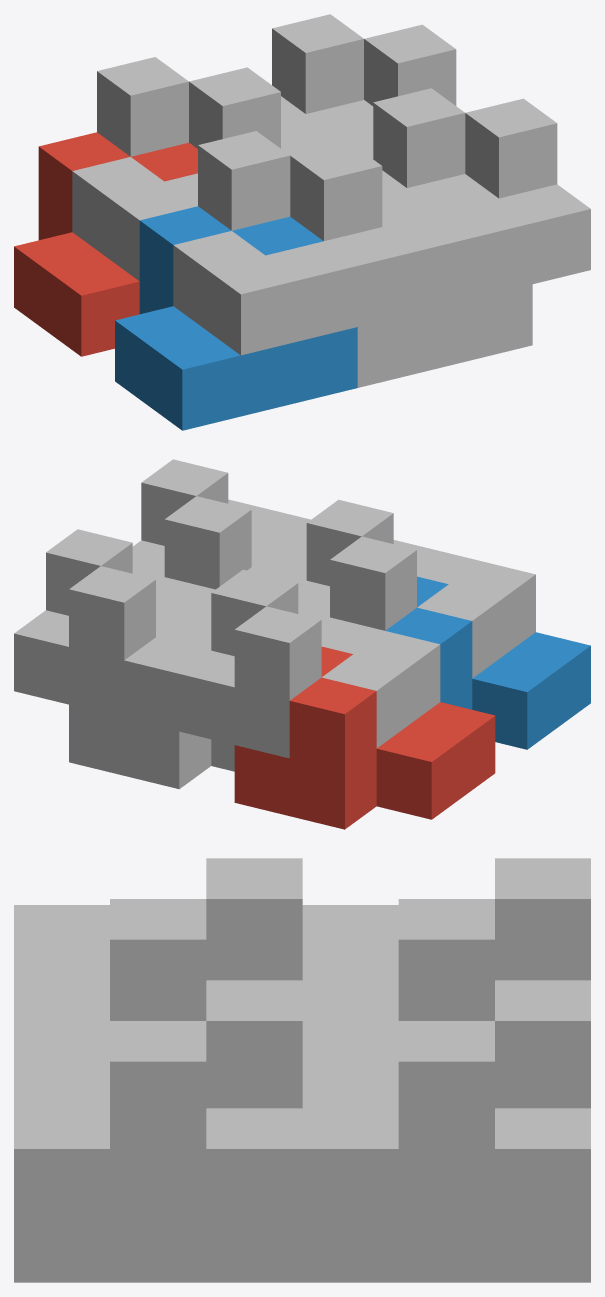
Rendered from tiling.obj.
3 renders of one model, top to bottom at view 1: azimuth 30°, elevation 25°; view 2: azimuth 150°, elevation 25°; view 3: azimuth 270°, elevation 25°, orthographic. The views are drawn at different scales.
Parts seen in each view (by area): view 1: copy_1_domain_4, copy_1_domain_8, copy_1_domain_2, copy_1_domain_3, copy_1_domain_1, copy_1_domain_7, copy_1_domain_6, copy_1_domain_5; view 2: copy_1_domain_3, copy_1_domain_1, copy_1_domain_7, copy_1_domain_4, copy_1_domain_8, copy_1_domain_2, copy_1_domain_5, copy_1_domain_6; view 3: copy_1_domain_8, copy_1_domain_7, copy_1_domain_4, copy_1_domain_3, copy_1_domain_5, copy_1_domain_6.
Boxes of the visible parts, <box> form: copy_1_domain_4: <box>173,131,415,355</box>; copy_1_domain_8: <box>373,88,590,312</box>; copy_1_domain_2: <box>115,206,357,430</box>; copy_1_domain_3: <box>72,57,280,280</box>; copy_1_domain_1: <box>14,132,197,356</box>; copy_1_domain_7: <box>272,14,456,158</box>; copy_1_domain_6: <box>357,170,532,387</box>; copy_1_domain_5: <box>281,96,373,138</box>; copy_1_domain_3: <box>179,569,440,758</box>; copy_1_domain_1: <box>234,646,495,829</box>; copy_1_domain_7: <box>14,529,215,717</box>; copy_1_domain_4: <box>298,499,535,678</box>; copy_1_domain_8: <box>132,459,310,589</box>; copy_1_domain_2: <box>385,576,590,749</box>; copy_1_domain_5: <box>69,606,234,789</box>; copy_1_domain_6: <box>247,536,306,586</box>; copy_1_domain_8: <box>14,980,302,1235</box>; copy_1_domain_7: <box>302,980,590,1235</box>; copy_1_domain_4: <box>14,858,302,1026</box>; copy_1_domain_3: <box>302,858,590,1026</box>; copy_1_domain_5: <box>302,1236,590,1282</box>; copy_1_domain_6: <box>14,1236,302,1282</box>.
Bounding box in the file's own units: 7 × 3 × 6.
